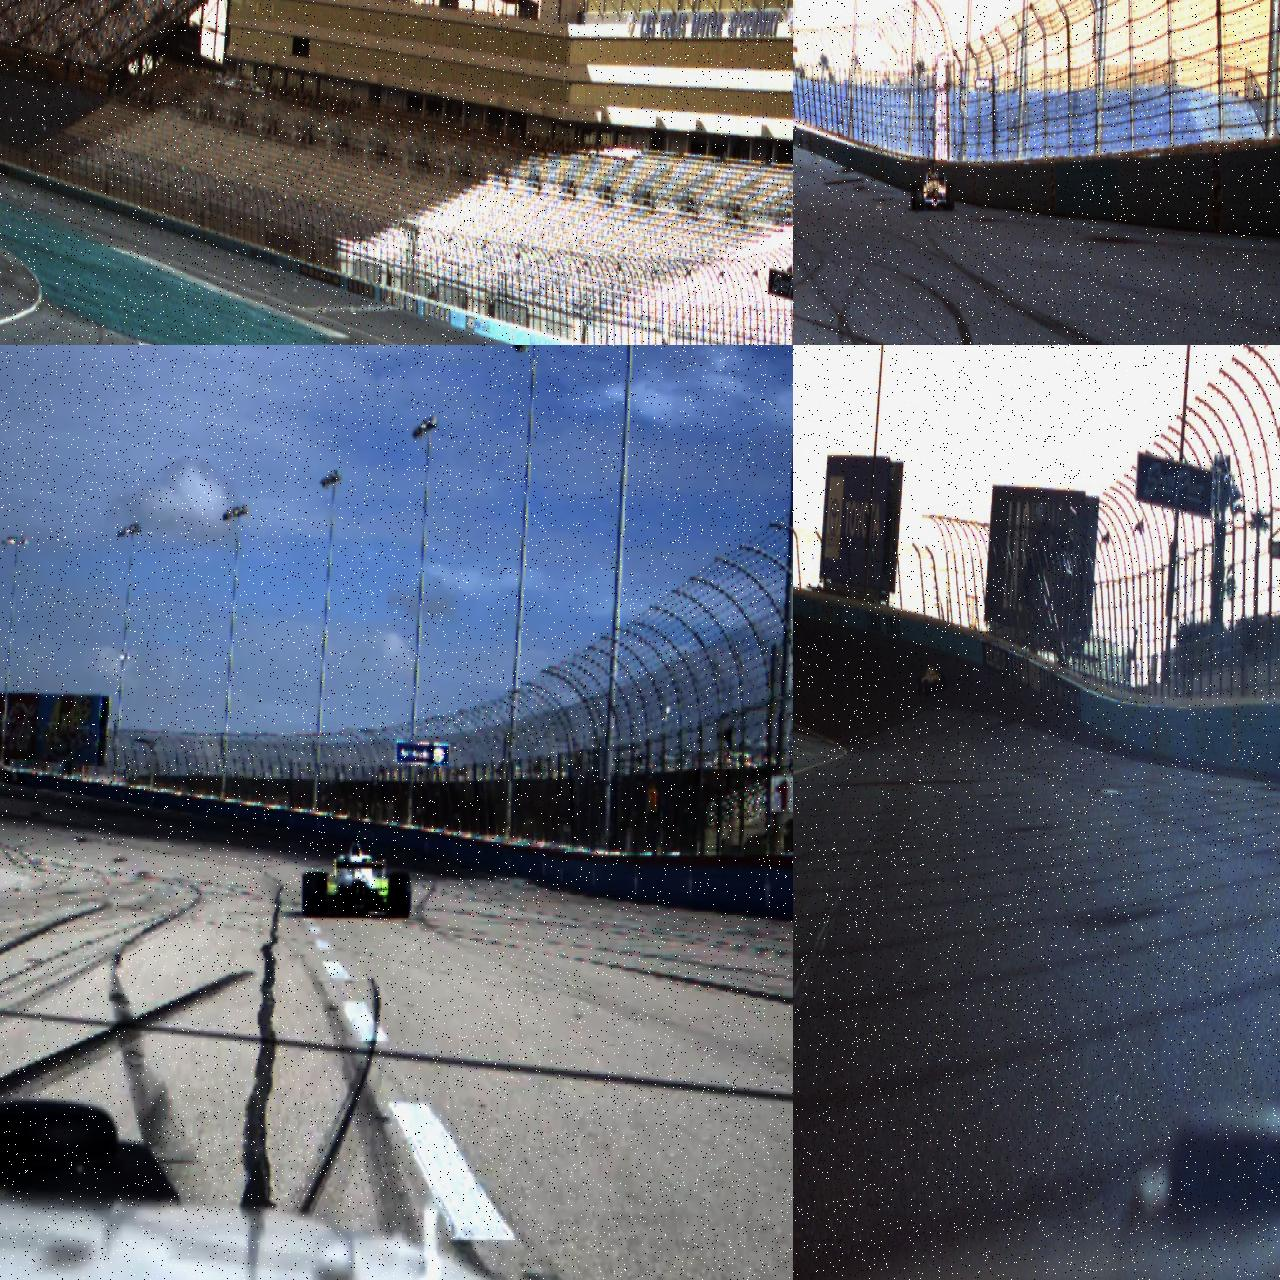AV: (302, 837, 413, 920), (912, 159, 954, 211), (915, 661, 946, 696)
Wheel: (302, 872, 327, 918), (388, 873, 411, 919), (946, 184, 954, 211), (915, 186, 924, 210), (912, 186, 917, 210), (924, 680, 928, 696), (918, 678, 922, 694), (942, 673, 946, 689)
